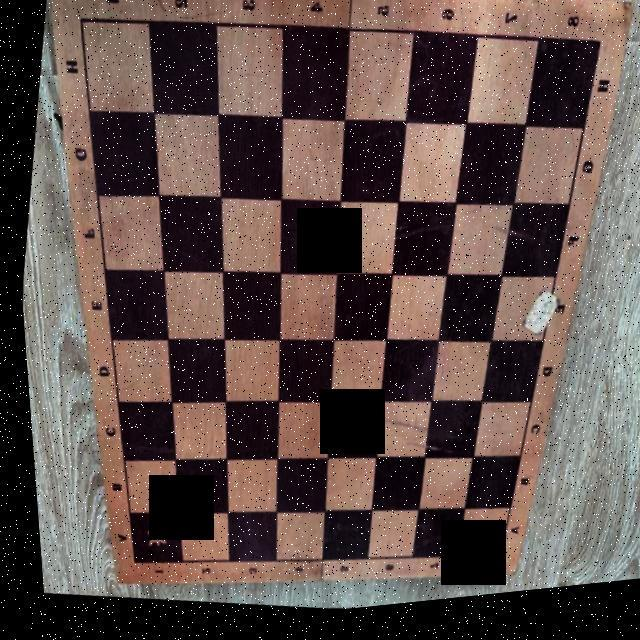chess-table-corners: (114, 548, 140, 581), (68, 8, 94, 38), (586, 42, 610, 69), (482, 553, 501, 574)
